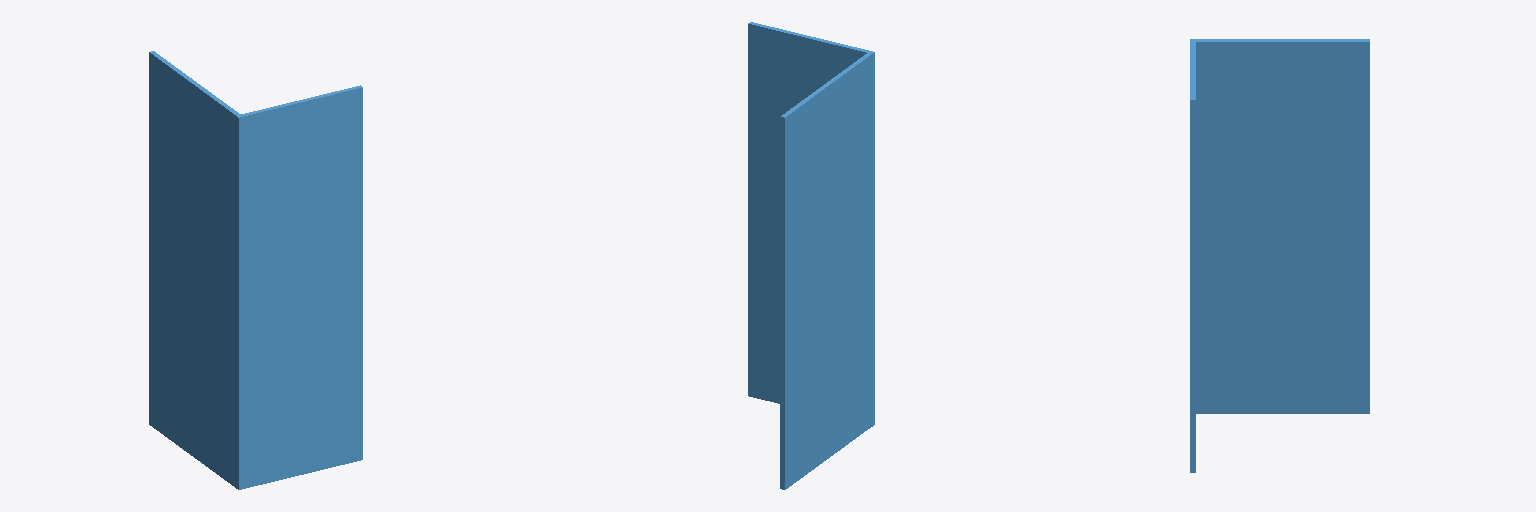
3 views of the same model, side by side, from view 1: azimuth 30°, elevation 25°; view 2: azimuth 150°, elevation 25°; view 3: azimuth 270°, elevation 25° (orthographic).
Parts seen in each view (by area): view 1: Box005, pared2; view 2: pared2, Box005; view 3: pared2, Box005.
Boxes of the visible parts, x1=… form: Box005: x1=236, y1=85, x2=362, y2=489; pared2: x1=149, y1=51, x2=240, y2=487; pared2: x1=780, y1=51, x2=873, y2=489; Box005: x1=748, y1=22, x2=874, y2=426; pared2: x1=1196, y1=39, x2=1369, y2=413; Box005: x1=1190, y1=39, x2=1195, y2=472.
Size of the model in its own units: 31.5 by 90.16 by 39.37.
1 materials, 1 textured.